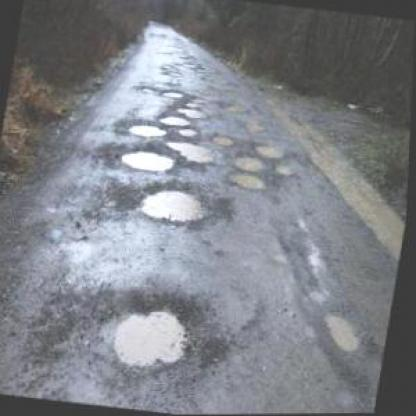pothole: (104, 287, 207, 376), (134, 180, 216, 228), (118, 143, 182, 176), (323, 311, 370, 352), (165, 137, 222, 168), (226, 169, 270, 193), (128, 118, 172, 140), (235, 154, 270, 173), (254, 142, 288, 160), (176, 104, 211, 119), (162, 112, 194, 128), (214, 132, 237, 146), (162, 87, 186, 100)
